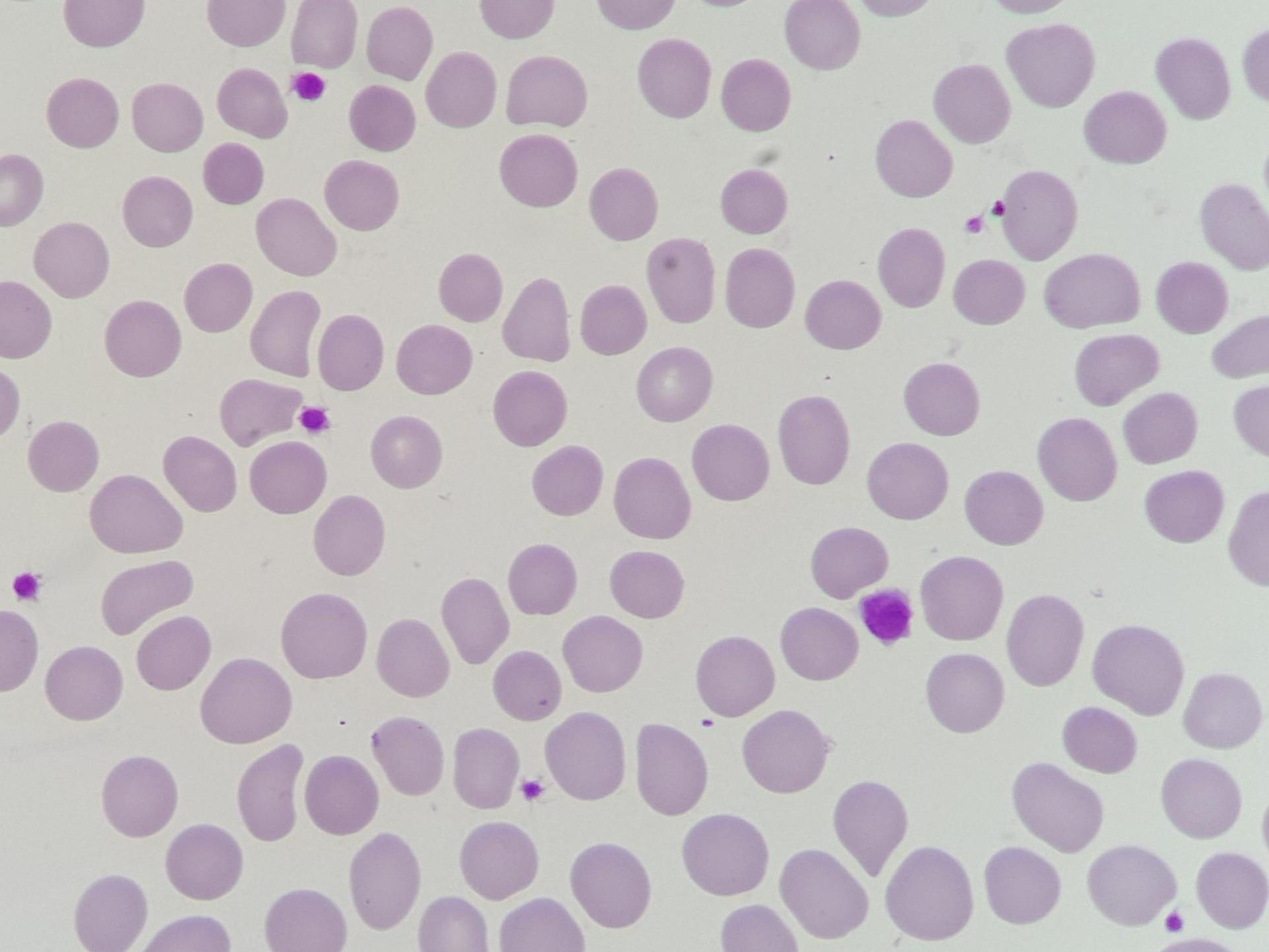Uninfected: (1091, 625, 1181, 718), (1011, 761, 1100, 852), (885, 849, 974, 939), (201, 658, 292, 745), (90, 474, 185, 556), (280, 594, 368, 682), (780, 850, 868, 937), (102, 558, 195, 639), (683, 814, 769, 899), (545, 712, 627, 801), (743, 710, 829, 794), (1007, 24, 1093, 108), (833, 782, 908, 877), (919, 555, 1002, 640), (1044, 256, 1140, 329), (349, 832, 421, 929), (1089, 845, 1175, 926), (236, 744, 307, 842), (866, 441, 951, 522), (1006, 596, 1083, 685), (460, 821, 540, 906), (571, 844, 651, 929), (1000, 170, 1075, 260), (1160, 758, 1243, 839), (636, 724, 707, 815), (255, 198, 336, 277), (1036, 416, 1112, 500), (101, 755, 177, 839), (250, 291, 323, 378), (933, 65, 1011, 146), (1181, 673, 1262, 751), (304, 754, 380, 837), (1075, 337, 1162, 409), (104, 300, 183, 379), (696, 637, 774, 717), (613, 459, 691, 539), (963, 469, 1046, 544), (779, 398, 851, 484), (926, 654, 1005, 732), (985, 848, 1063, 927), (1084, 91, 1166, 166), (876, 119, 954, 197), (563, 615, 642, 692), (33, 221, 110, 300), (166, 823, 243, 902), (507, 56, 588, 131), (371, 717, 446, 798), (812, 526, 889, 604), (1156, 38, 1231, 118), (1199, 183, 1269, 268), (877, 227, 946, 313), (904, 359, 981, 436), (135, 615, 212, 692), (693, 425, 769, 503), (377, 619, 452, 698), (442, 577, 512, 661), (780, 606, 857, 682), (45, 646, 122, 722), (637, 346, 713, 423), (500, 133, 578, 208), (249, 441, 327, 516), (163, 435, 238, 513), (313, 494, 386, 574), (805, 280, 886, 352), (726, 245, 797, 327), (452, 728, 522, 811), (645, 238, 715, 321), (493, 370, 568, 447), (503, 280, 573, 362), (221, 379, 301, 450), (1193, 853, 1267, 929), (638, 40, 711, 117), (75, 875, 148, 952), (425, 53, 498, 129), (397, 324, 473, 397), (1159, 258, 1229, 336), (1141, 471, 1219, 541), (609, 551, 684, 623), (507, 543, 579, 618), (325, 160, 398, 233), (27, 420, 100, 493), (532, 445, 604, 519), (1128, 390, 1197, 467), (1063, 705, 1136, 777), (123, 176, 195, 249), (47, 78, 120, 150), (317, 314, 385, 391), (371, 416, 443, 488), (722, 58, 791, 133), (132, 82, 205, 152), (491, 650, 561, 722), (349, 82, 419, 153), (217, 68, 287, 139), (185, 263, 254, 335), (580, 284, 647, 358), (786, 2, 860, 69), (590, 167, 658, 239), (264, 890, 344, 951), (366, 8, 433, 79), (956, 258, 1028, 323), (720, 168, 788, 235), (439, 253, 503, 324), (500, 899, 583, 952), (291, 1, 357, 67), (0, 280, 52, 362), (202, 141, 266, 207), (1212, 312, 1268, 381), (418, 897, 488, 952), (207, 1, 282, 48), (65, 1, 141, 47), (721, 905, 797, 951), (0, 152, 45, 229)
